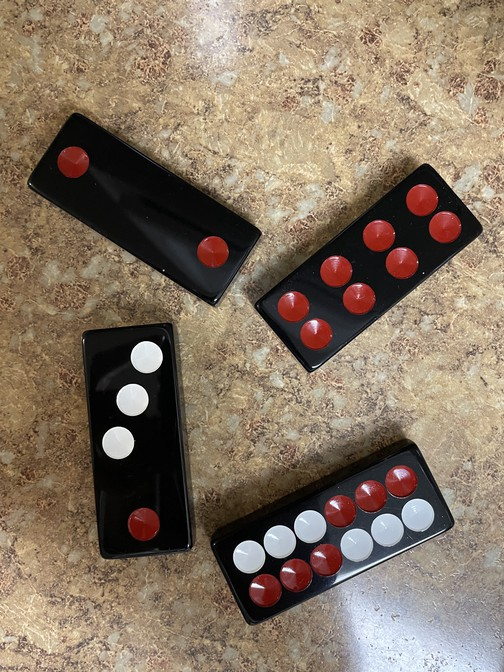earth: (25, 113, 259, 309)
goose: (78, 325, 195, 558)
heaven: (213, 438, 455, 627)
man: (258, 162, 485, 373)
